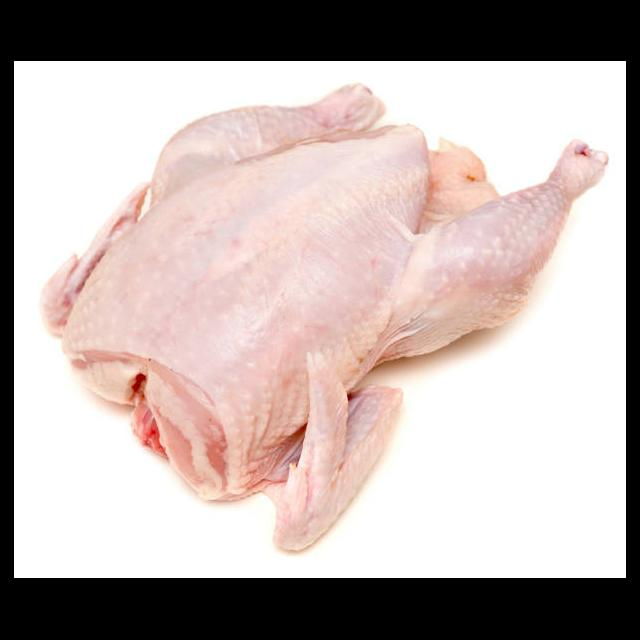chicken: (42, 83, 610, 554)
